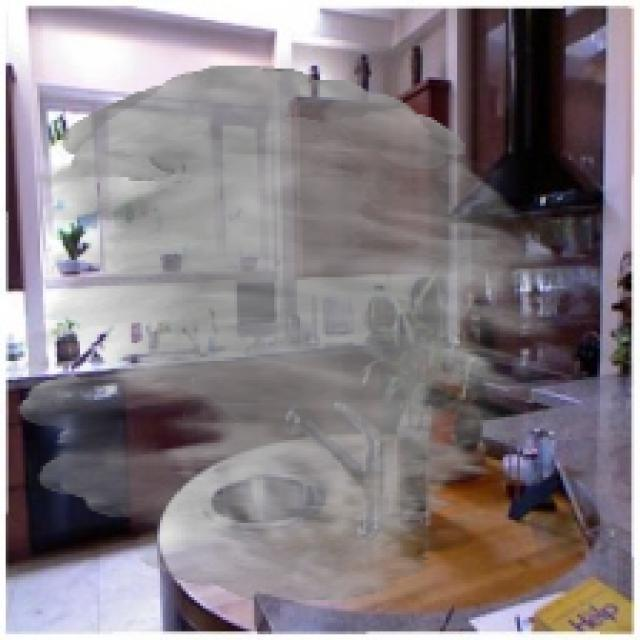smoke: (17, 66, 566, 603)
